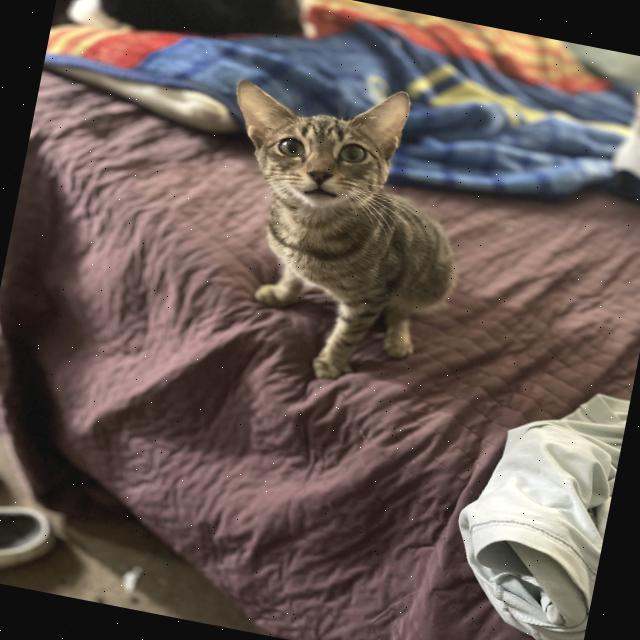manx_cat: (198, 45, 446, 254)
